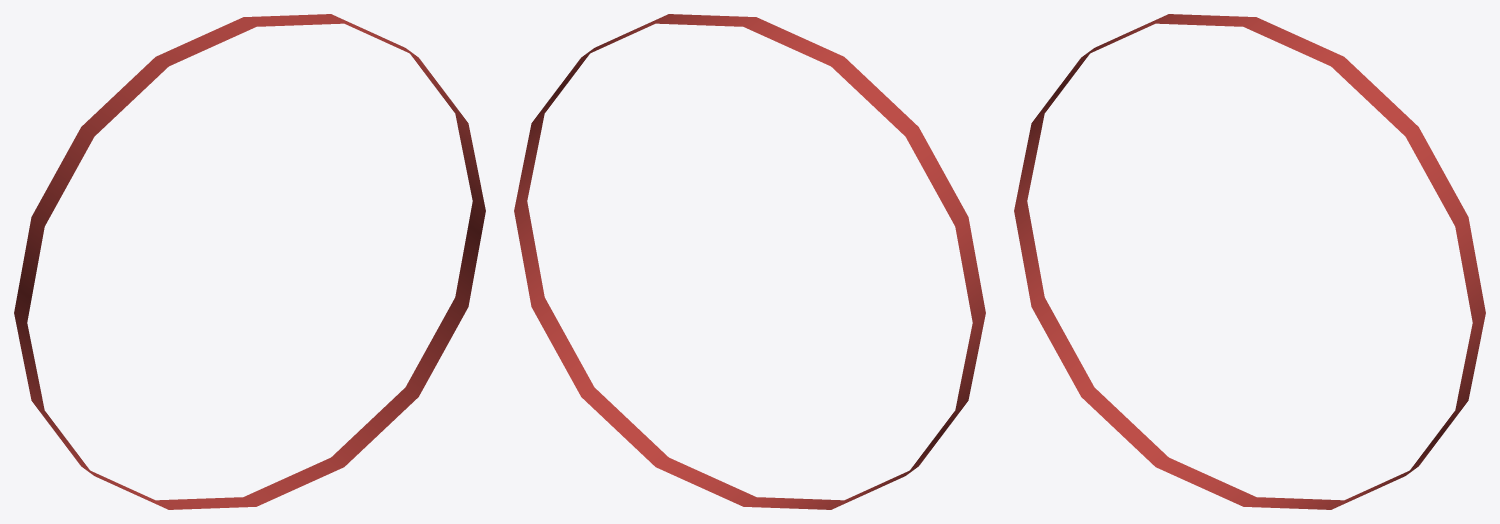
Rendered from round.glb.
The picture shows the model from 3 angles, left to right: view 1: azimuth 30°, elevation 25°; view 2: azimuth 150°, elevation 25°; view 3: azimuth 330°, elevation 25°; orthographic projection.
Parts seen in each view (by area): view 1: lod0; view 2: lod0; view 3: lod0.
Boxes of the visible parts, <box> form: lod0: <box>14,14,485,509</box>; lod0: <box>514,14,985,509</box>; lod0: <box>1014,14,1485,509</box>.
Size of what is drawn, in the model's own units: 2 by 2 by 0.1.
